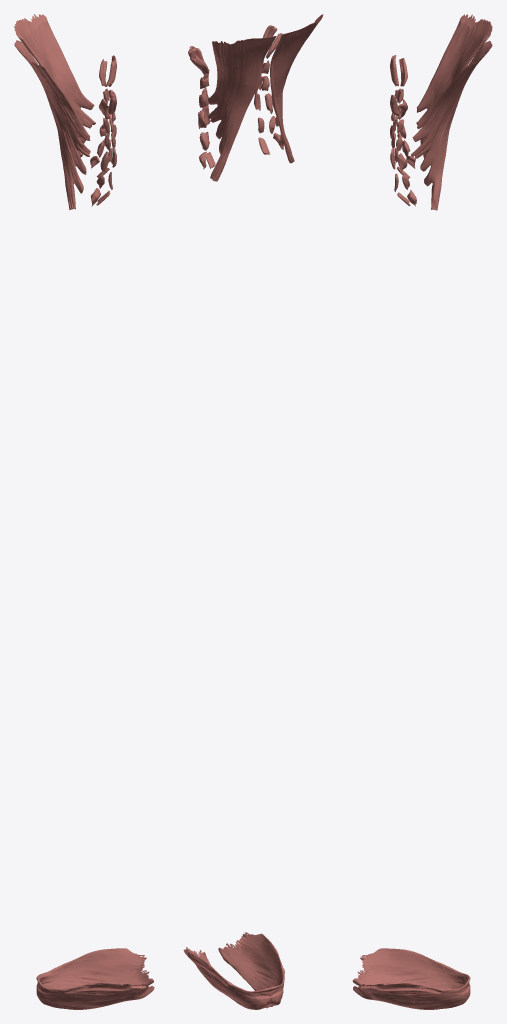
The model's file is muscles_extra.glb.
3 renders of one model, left to right at view 1: azimuth 90°, elevation 25°; view 2: azimuth 210°, elevation 25°; view 3: azimuth 270°, elevation 25°, orthographic. The views are drawn at different scales.
Parts seen in each view (by area): view 1: 3330, 3327, 3328, 3329, 3333, 3334, 3331, 3332; view 2: 3328, 3329, 3327, 3330, 3334, 3333, 3331, 3332; view 3: 3328, 3329, 3327, 3330, 3334, 3333, 3332, 3331.
Boxes of the visible parts, <box> form: 3330: <box>36,948,153,989</box>; 3327: <box>14,40,90,209</box>; 3328: <box>14,14,95,156</box>; 3329: <box>36,977,154,1009</box>; 3333: <box>90,98,110,206</box>; 3334: <box>90,59,109,168</box>; 3331: <box>96,90,116,205</box>; 3332: <box>96,55,116,177</box>; 3328: <box>208,36,276,181</box>; 3329: <box>218,932,284,1006</box>; 3327: <box>270,14,323,163</box>; 3330: <box>183,947,270,1009</box>; 3334: <box>190,54,209,169</box>; 3333: <box>261,33,284,149</box>; 3331: <box>254,25,277,154</box>; 3332: <box>188,46,215,168</box>; 3328: <box>411,41,492,210</box>; 3329: <box>352,948,470,989</box>; 3327: <box>416,14,492,158</box>; 3330: <box>353,977,470,1009</box>; 3334: <box>396,99,416,206</box>; 3333: <box>397,58,415,168</box>; 3332: <box>390,95,410,205</box>; 3331: <box>390,55,410,178</box>.
Size of the model in its own units: 0.0887 by 0.7646 by 0.1004.
